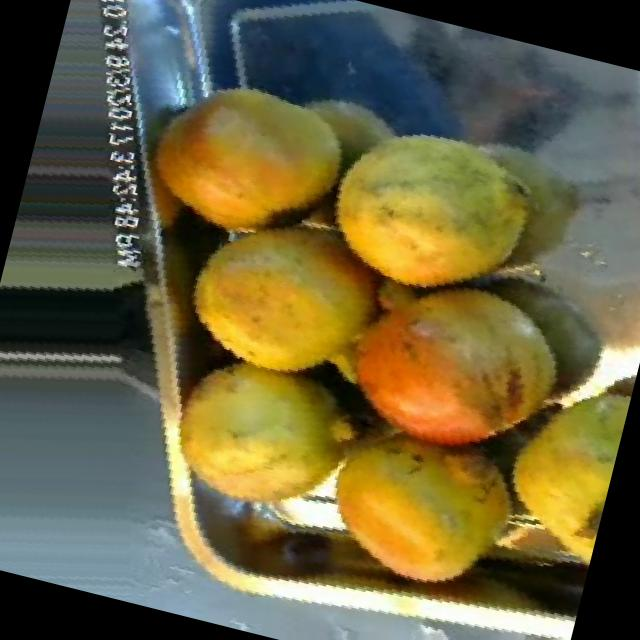fruit: (305, 230, 613, 506), (294, 90, 580, 338), (288, 386, 570, 630), (156, 173, 418, 419), (131, 319, 394, 556), (116, 46, 382, 280), (458, 321, 640, 585)
